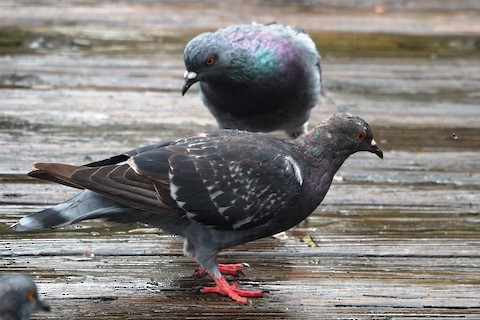pigeon: (9, 108, 394, 307), (174, 14, 328, 171)
